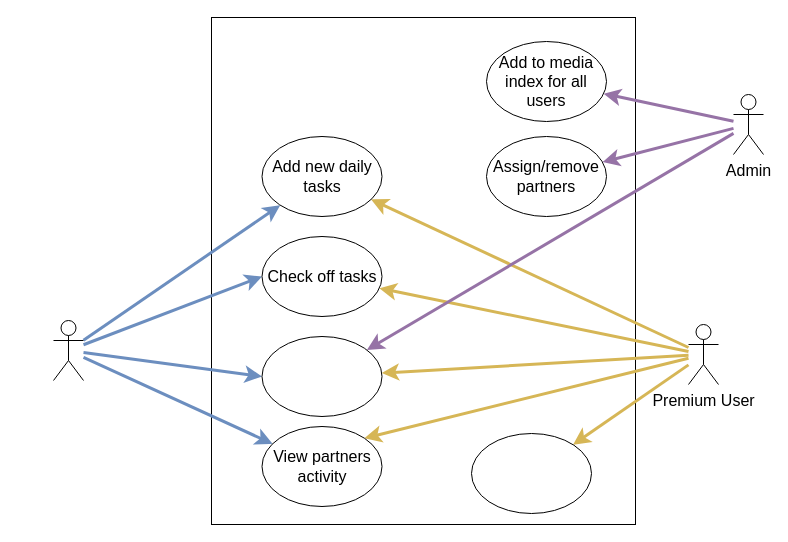
This 788x542 diagram has some shape labels left out. Here are the shapes that lost their labels. From the top down, the centre of each, then its label:
point (68, 350): Standard User
point (321, 376): View task history
point (531, 473): Add multiple goals
